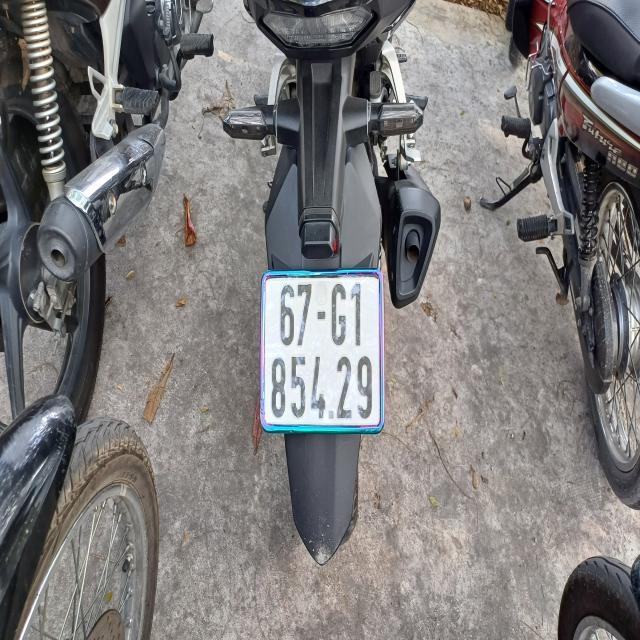1: (349, 283, 363, 349)
2: (336, 354, 352, 424)
4: (310, 350, 327, 424)
5: (291, 352, 308, 420)
6: (278, 285, 295, 345)
7: (296, 284, 312, 348)
8: (270, 353, 288, 420)
9: (356, 354, 373, 420)
G: (329, 281, 348, 349)
